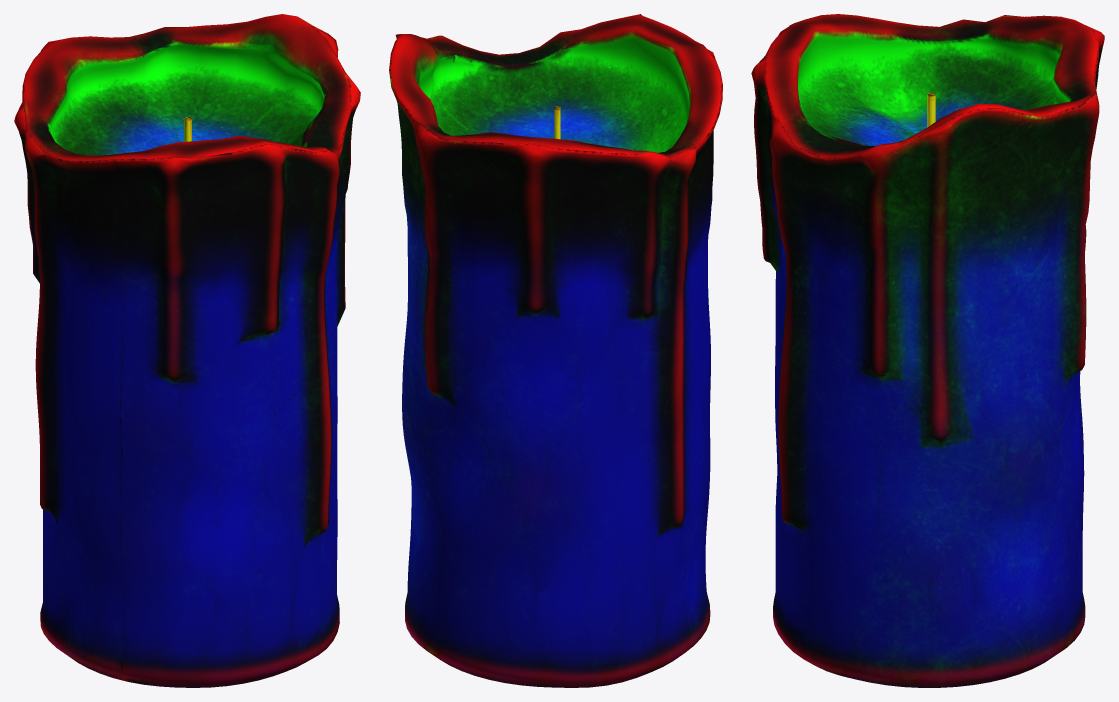
File: SM_Candle_C.fbx
3 views of the same model, side by side, from view 1: azimuth 30°, elevation 25°; view 2: azimuth 150°, elevation 25°; view 3: azimuth 270°, elevation 25° (orthographic). The views are drawn at different scales.
Parts seen in each view (by area): view 1: SM_Candle_C_LOD0; view 2: SM_Candle_C_LOD0; view 3: SM_Candle_C_LOD0.
Part boxes in pixels (x1,y1,x2,y2): SM_Candle_C_LOD0: (14,14,360,687); SM_Candle_C_LOD0: (389,14,722,687); SM_Candle_C_LOD0: (751,14,1104,687).
Size of the model in its own units: 12.69 by 12.43 by 22.94.
Materials: 1 (1 with a texture image).
